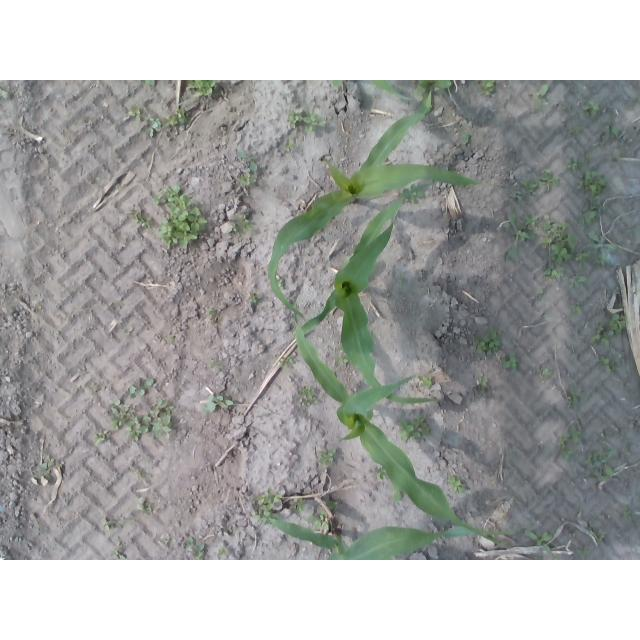Maize: (294, 304, 507, 549), (269, 92, 492, 320), (297, 188, 440, 404), (267, 516, 517, 560), (331, 80, 413, 101)
Weeds: (152, 185, 206, 252), (541, 214, 576, 282), (577, 169, 609, 226), (504, 210, 538, 260), (584, 228, 618, 267), (520, 167, 562, 198), (145, 398, 174, 439), (252, 488, 282, 525), (286, 106, 326, 133), (474, 328, 503, 359), (401, 412, 431, 440), (559, 424, 581, 460), (108, 398, 131, 431), (524, 530, 553, 555), (584, 449, 616, 469), (588, 321, 611, 348), (124, 418, 148, 442), (603, 124, 626, 149), (129, 378, 156, 399), (203, 395, 233, 413), (415, 80, 453, 94), (533, 82, 552, 110), (231, 211, 254, 234), (236, 149, 259, 172), (187, 80, 218, 97), (598, 354, 623, 375), (126, 209, 152, 229), (399, 183, 423, 204), (566, 153, 593, 171), (187, 536, 206, 560), (298, 385, 318, 407), (145, 114, 163, 138), (307, 511, 329, 530), (610, 312, 627, 336), (581, 98, 600, 119), (593, 465, 615, 483), (501, 351, 519, 373), (317, 448, 337, 467), (168, 108, 189, 126), (537, 363, 556, 382), (587, 522, 605, 542), (37, 455, 56, 473), (449, 476, 467, 495), (569, 387, 586, 406), (292, 495, 308, 515), (568, 273, 586, 290), (126, 103, 142, 122), (238, 172, 259, 186), (479, 81, 497, 96), (376, 465, 391, 483), (577, 545, 594, 560), (475, 374, 489, 392), (392, 485, 405, 504), (622, 505, 635, 523), (418, 373, 432, 388), (280, 356, 296, 369), (101, 517, 112, 533), (511, 189, 524, 202), (284, 137, 296, 151), (575, 250, 589, 262), (111, 549, 126, 560), (250, 295, 265, 306), (136, 499, 148, 512), (462, 131, 472, 146), (335, 355, 350, 365), (326, 499, 339, 510), (94, 434, 106, 445), (216, 549, 228, 560), (571, 303, 584, 313), (569, 126, 583, 135), (0, 87, 10, 98), (276, 279, 285, 290), (144, 81, 157, 88), (205, 308, 215, 317), (613, 154, 623, 163), (537, 288, 546, 297), (215, 362, 222, 373), (635, 123, 640, 133), (617, 302, 624, 309), (163, 539, 170, 545), (168, 335, 175, 341), (399, 275, 405, 281)
